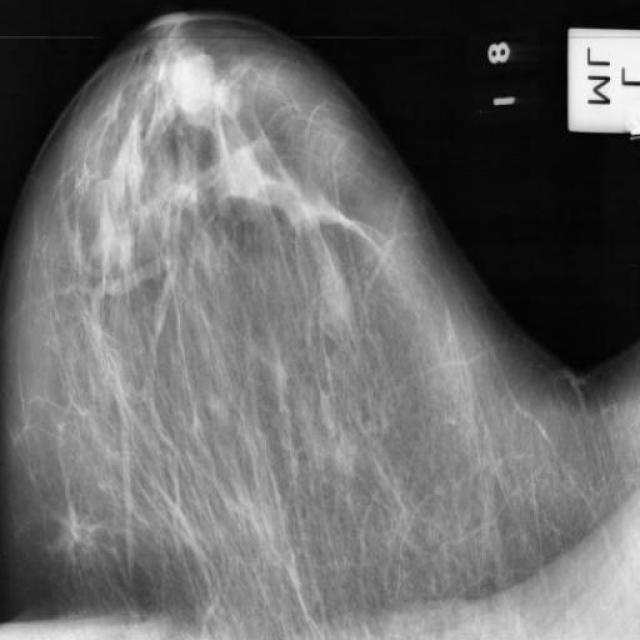cancer: (295, 418, 354, 514)
